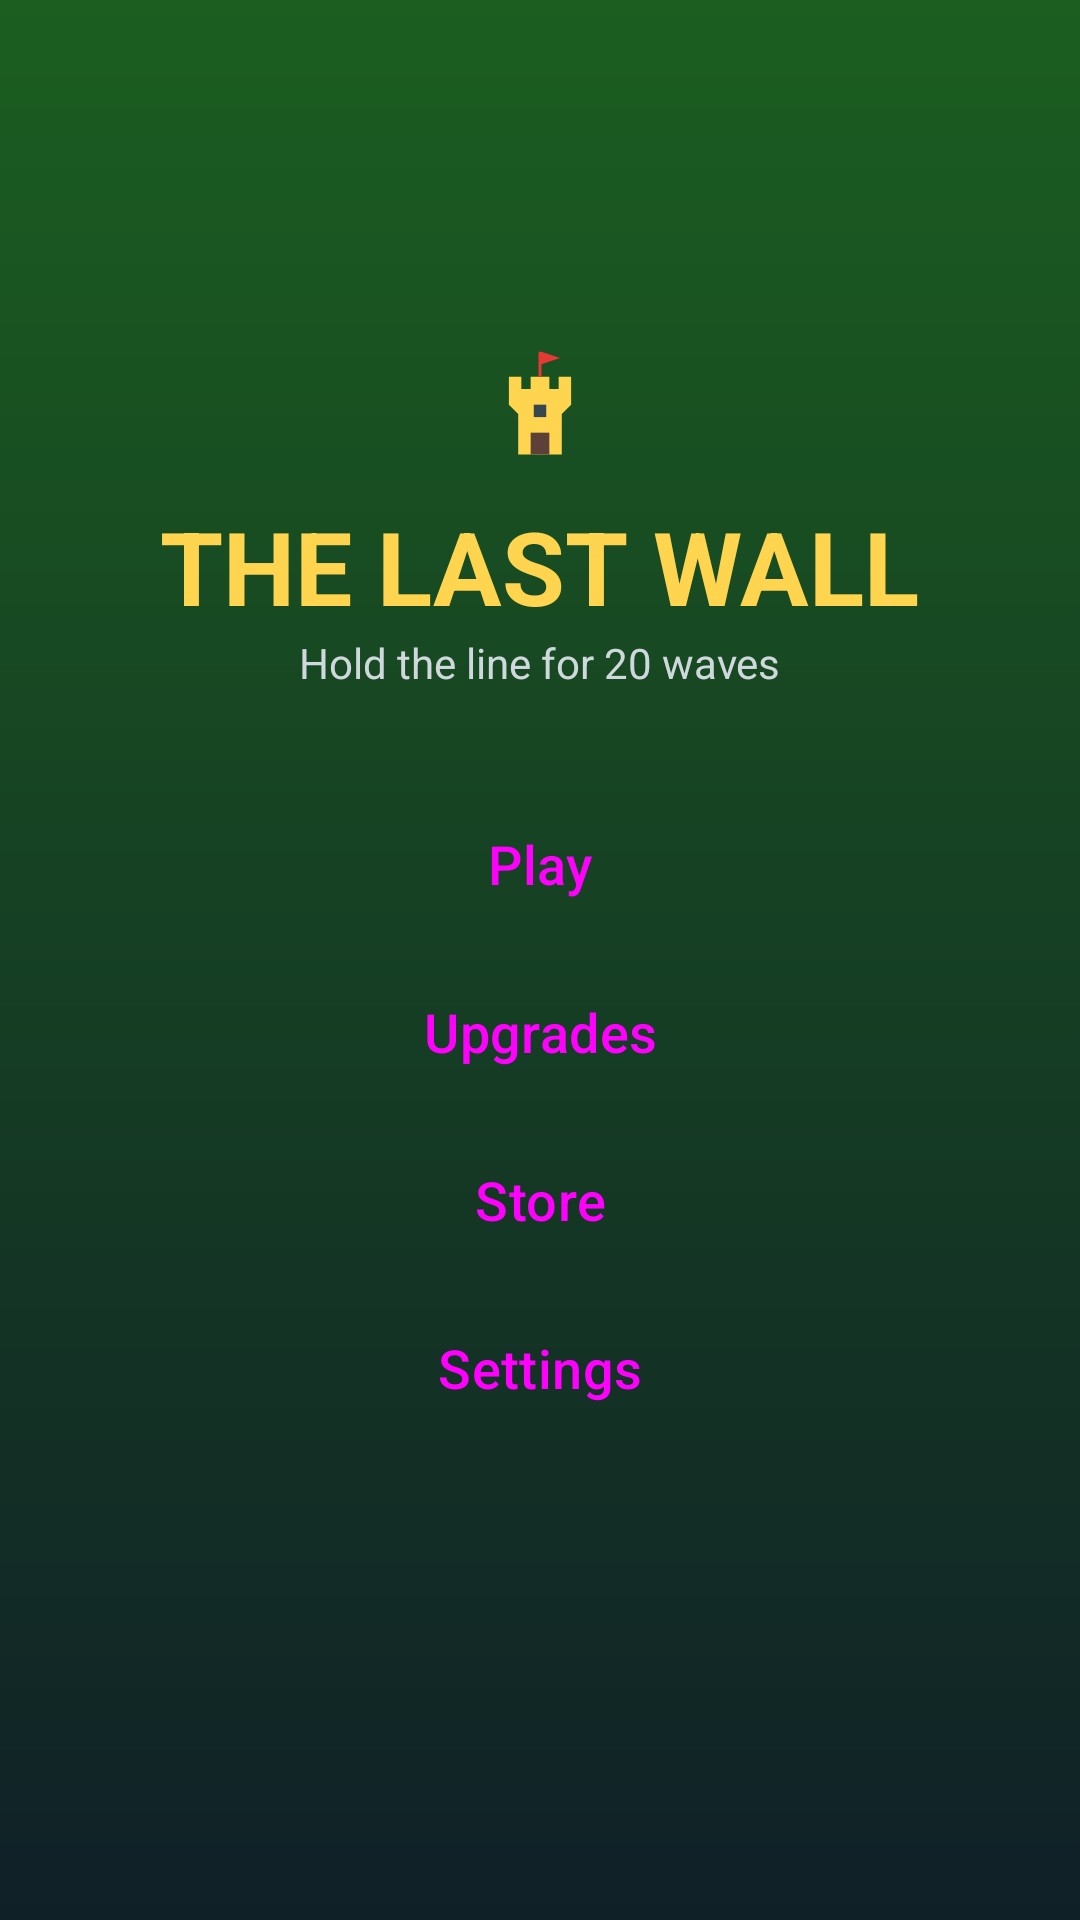

Where to tap for icons on this 1080px x 1920px app screen, as [x,y]:
tower: [540,403]
